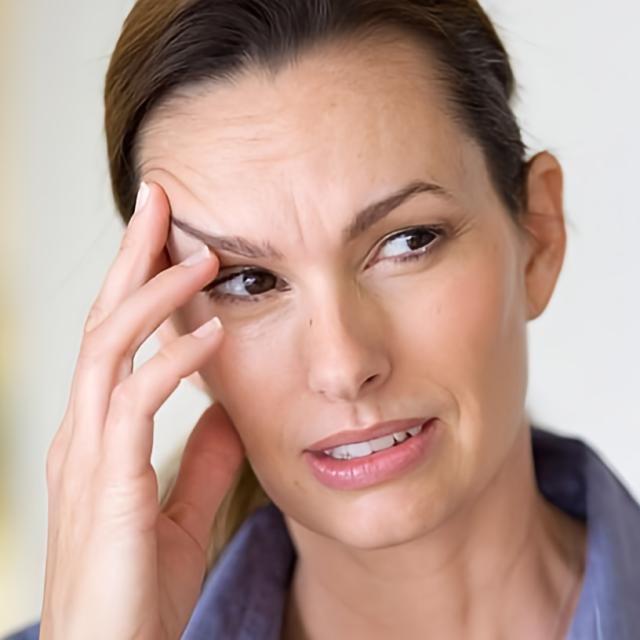disgust: (132, 23, 525, 550)
